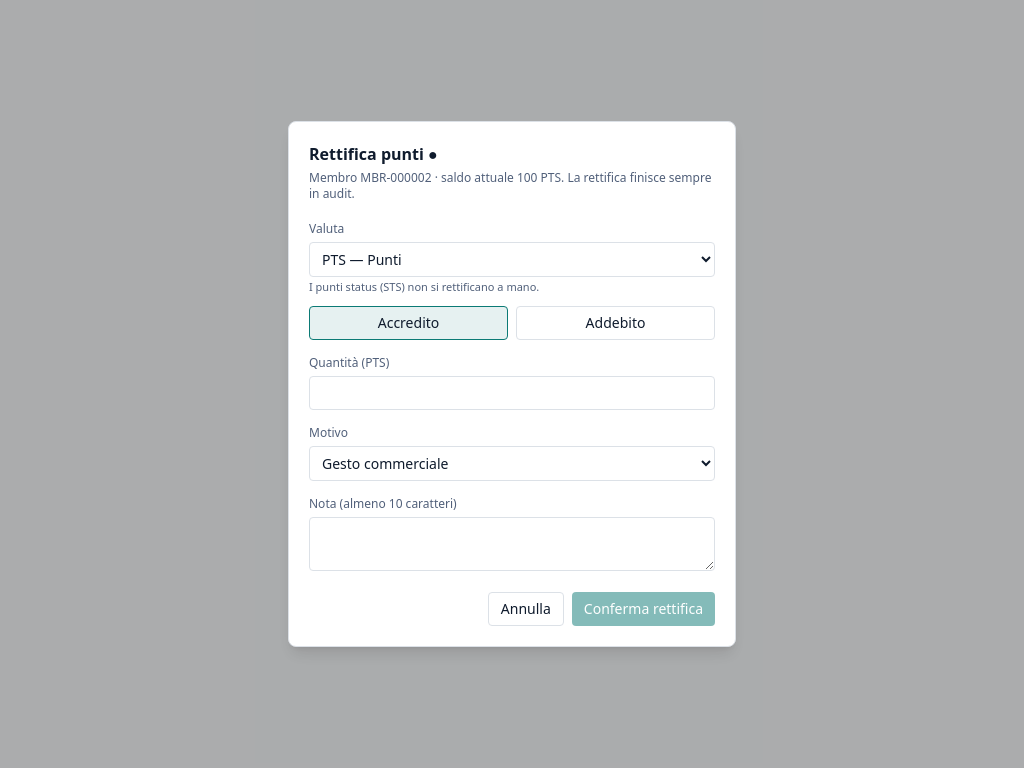
Test: [TB-WEB-ADJ-008] addebito pari al saldo (100) → abilitata, saldo dopo 0
The image size is (1024, 768).
Click the button "Addebito" at (616, 323), box [516,306,715,340]
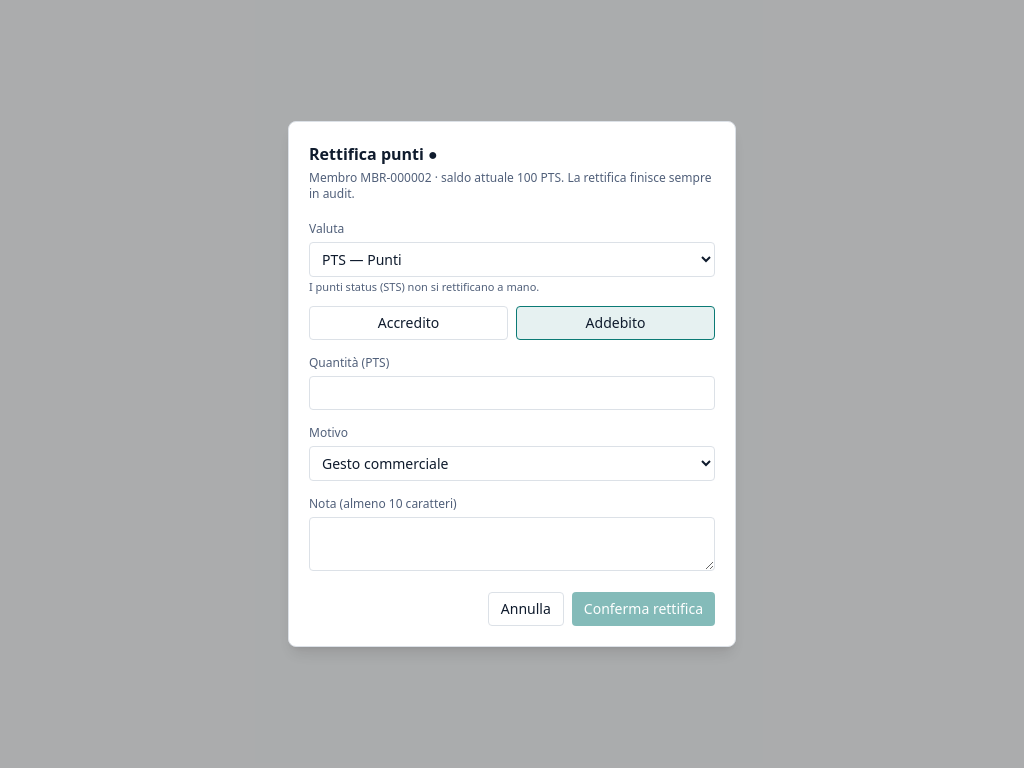
Type "100" into the number field at (512, 393), box [309,376,715,410]
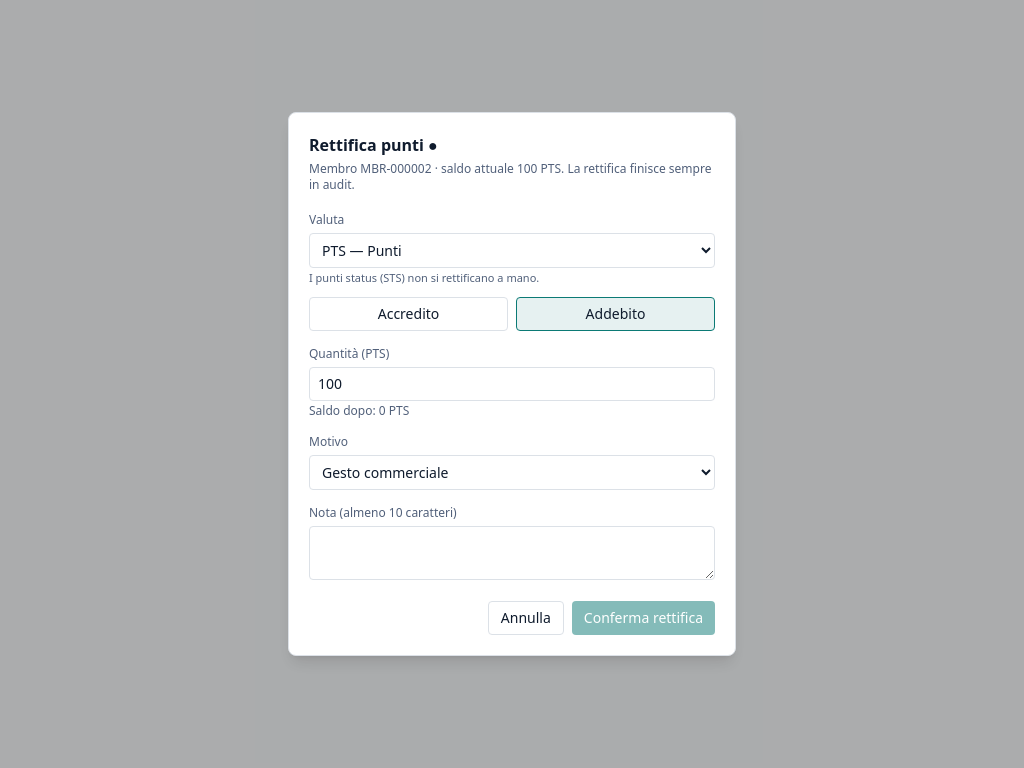
Type "1234567890" into the text box at (512, 553), box [309,526,715,580]
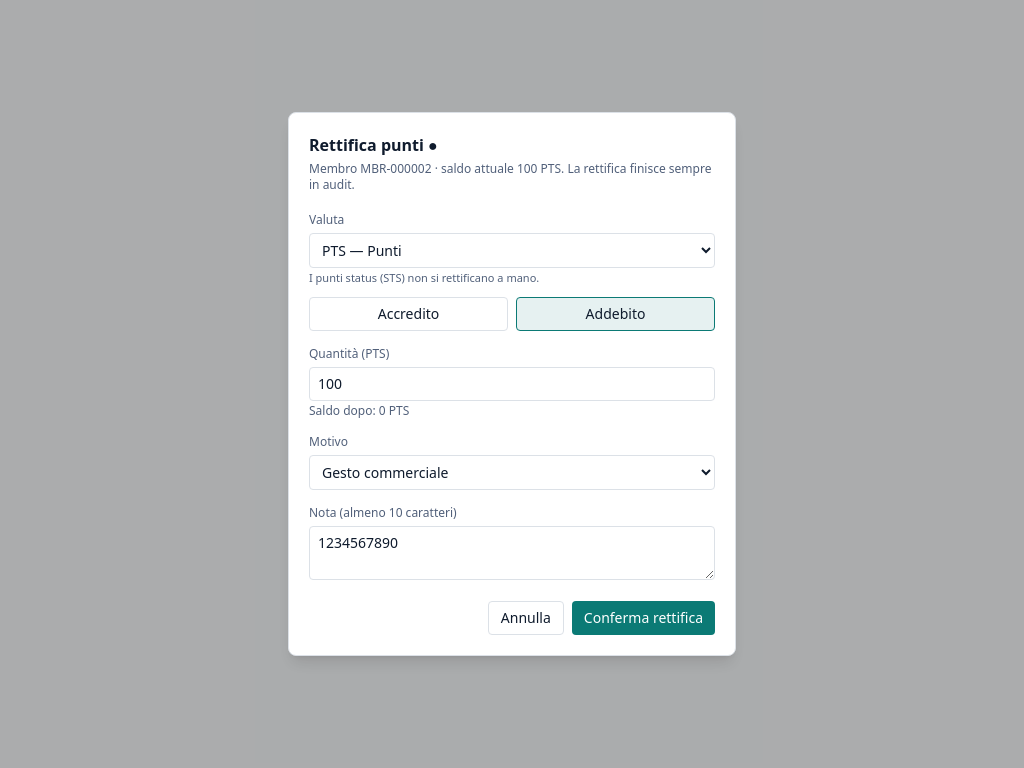
Now the button "Conferma rettifica" is enabled, box [572,601,715,635]
